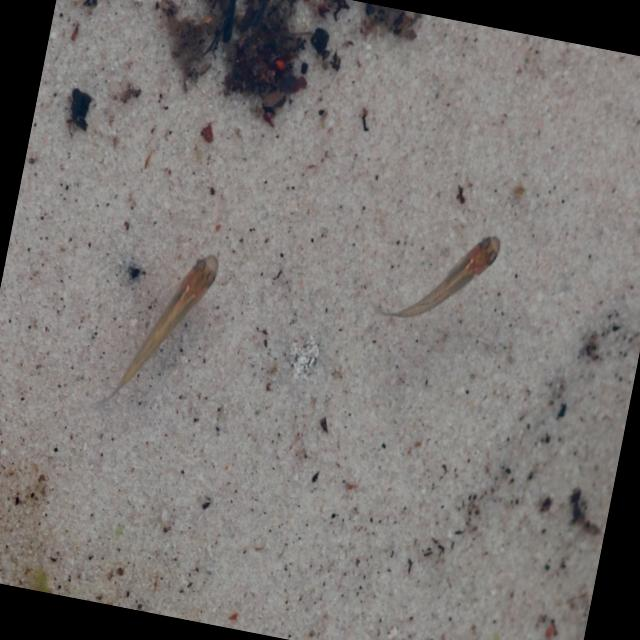Sivrisinek Baligi: (108, 237, 229, 422), (372, 212, 507, 344)
